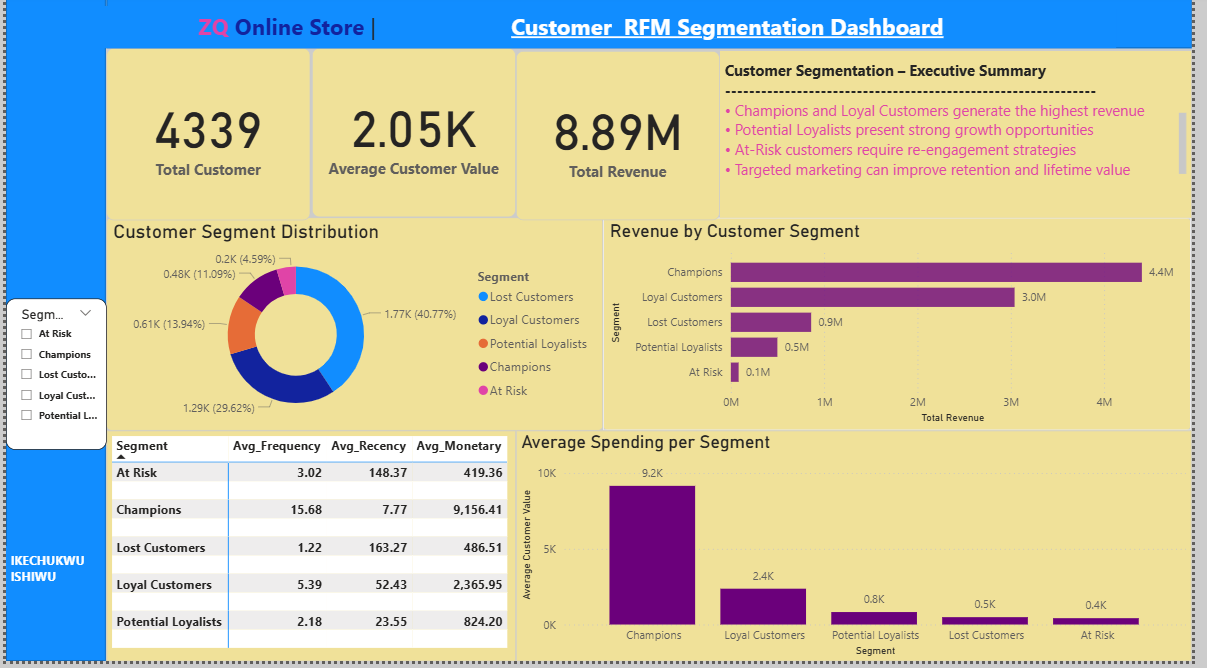

What the dashboard file says about the page in this screenshot:
{"tool":"powerbi","page":{"name":"Page 1","canvas":[1280,720],"ordinal":0},"visuals":[{"type":"donutChart","title":" Customer Segment Distribution","fields":{"Category":["rfm_customer_segments.Segment"],"Y":["CountNonNull(rfm_customer_segments.CustomerID)"]},"box":[108.5,241.3,536,229.9],"z":0},{"type":"clusteredBarChart","title":" Revenue by Customer Segment","fields":{"Category":["rfm_customer_segments.Segment"],"Y":["rfm_customer_segments.Total Revenue"]},"box":[644.5,241.3,634.7,229.9],"z":1000},{"type":"clusteredColumnChart","title":"Average Spending per Segment","fields":{"Category":["rfm_customer_segments.Segment"],"Y":["rfm_customer_segments.Average Customer Value"]},"box":[549.9,470.6,729.5,249.5],"z":2000},{"type":"pivotTable","fields":{"Rows":["rfm_customer_segments.Segment"],"Values":["rfm_customer_segments.Avg_Frequency","rfm_customer_segments.Avg_Recency","rfm_customer_segments.Avg_Monetary"]},"box":[107.7,470.6,442.2,249.5],"z":3000},{"type":"card","fields":{"Values":["rfm_customer_segments.Total Customer"]},"box":[108.5,58.3,220.2,186.2],"z":4000},{"type":"card","fields":{"Values":["rfm_customer_segments.Total Revenue"]},"box":[550.5,61.5,220.2,183],"z":5000},{"type":"card","fields":{"Values":["rfm_customer_segments.Average Customer Value"]},"box":[330.3,58.3,220.2,183],"z":6000},{"type":"shape","box":[0,0,107.7,720],"z":7000},{"type":"shape","box":[107.7,0,1171.7,58.6],"z":8000},{"type":"slicer","fields":{"Values":["rfm_customer_segments.Segment"]},"box":[0,328.7,108.5,163.5],"z":9000},{"type":"textbox","box":[100.4,13,1097.8,45.3],"z":9001},{"type":"textbox","box":[0,595.9,100.4,64.8],"z":9002},{"type":"textbox","box":[770.8,61.5,508.4,179.7],"z":9003}]}

Visuals, with their boxes in screenshot pixels (x1, y1, x2, y2), scaled from the page's 1280x720 canvas onto the 1207x668 screenshot:
" Customer Segment Distribution" donutChart: region(102, 224, 608, 437)
" Revenue by Customer Segment" clusteredBarChart: region(608, 224, 1206, 437)
"Average Spending per Segment" clusteredColumnChart: region(519, 437, 1206, 667)
pivotTable - rfm_customer_segments.Segment x rfm_customer_segments.Avg_Frequency: region(102, 437, 519, 667)
card - rfm_customer_segments.Total Customer: region(102, 54, 310, 227)
card - rfm_customer_segments.Total Revenue: region(519, 57, 727, 227)
card - rfm_customer_segments.Average Customer Value: region(311, 54, 519, 224)
shape: region(0, 0, 102, 667)
shape: region(102, 0, 1206, 54)
slicer - rfm_customer_segments.Segment: region(0, 305, 102, 457)
textbox: region(95, 12, 1130, 54)
textbox: region(0, 553, 95, 613)
textbox: region(727, 57, 1206, 224)
